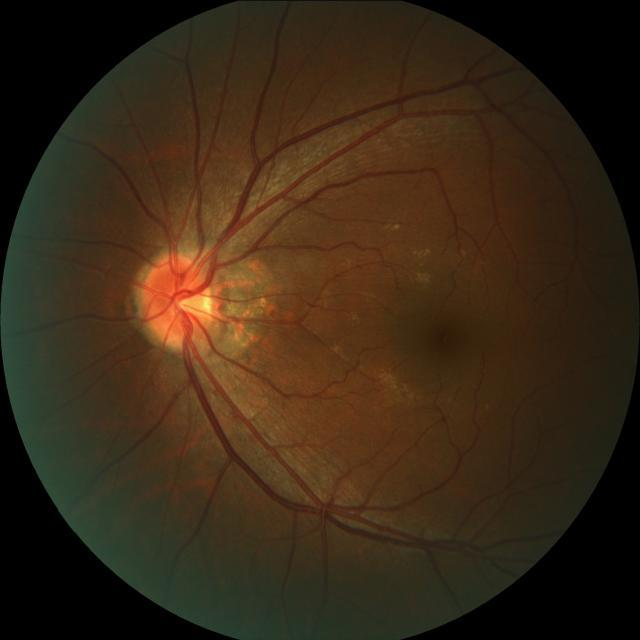OC: (177, 290, 212, 316)
OD: (141, 254, 216, 348)
